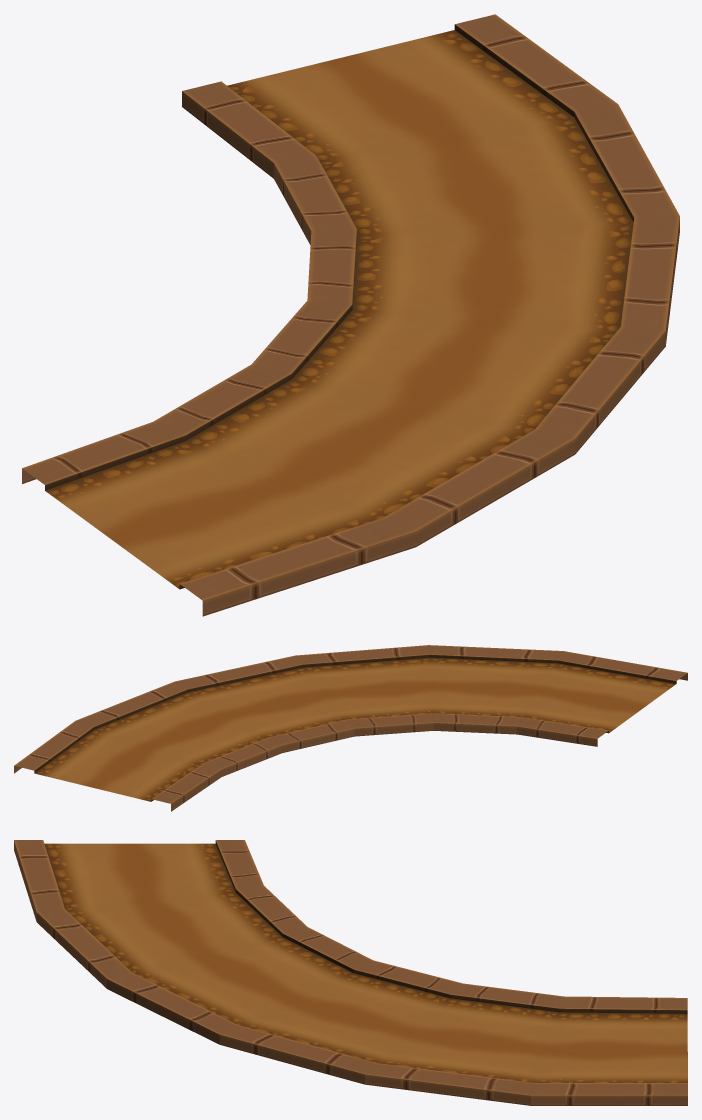
File: Curve_Road_Piece_2.FBX
3 renders of one model, top to bottom at view 1: azimuth 30°, elevation 25°; view 2: azimuth 150°, elevation 25°; view 3: azimuth 270°, elevation 25°, orthographic. The views are drawn at different scales.
Parts seen in each view (by area): view 1: Object350; view 2: Object350; view 3: Object350.
Boxes of the visible parts, left/top/right/bottom form: Object350: left=22, top=14, right=679, bottom=616; Object350: left=14, top=645, right=687, bottom=811; Object350: left=14, top=840, right=687, bottom=1105.
Bounding box in the file's own units: 428 × 7.95 × 476.
